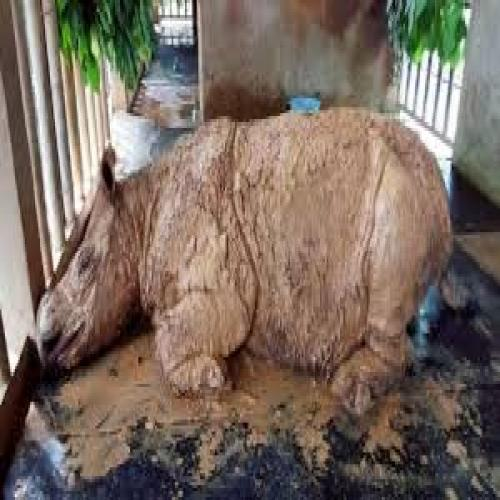rhino-endangered: (35, 104, 451, 387)
